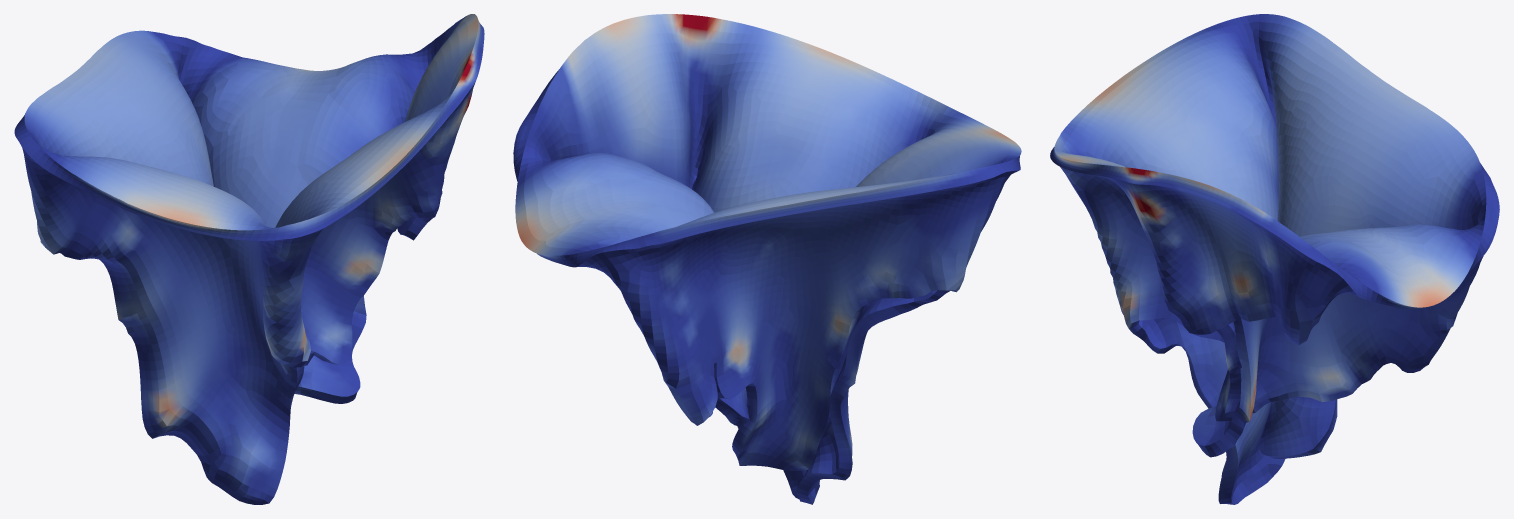
3 renders of one model, left to right at view 1: azimuth 30°, elevation 25°; view 2: azimuth 150°, elevation 25°; view 3: azimuth 270°, elevation 25°, orthographic. The views are drawn at different scales.
Parts seen in each view (by area): view 1: OCS14_maxS_17; view 2: OCS14_maxS_17; view 3: OCS14_maxS_17.
Boxes of the visible parts, x1,y1,x2,y2 form: OCS14_maxS_17: [14, 14, 484, 504]; OCS14_maxS_17: [513, 14, 1021, 504]; OCS14_maxS_17: [1050, 14, 1499, 504].
Size of the model in its own units: 1.41 by 1.26 by 1.23.
